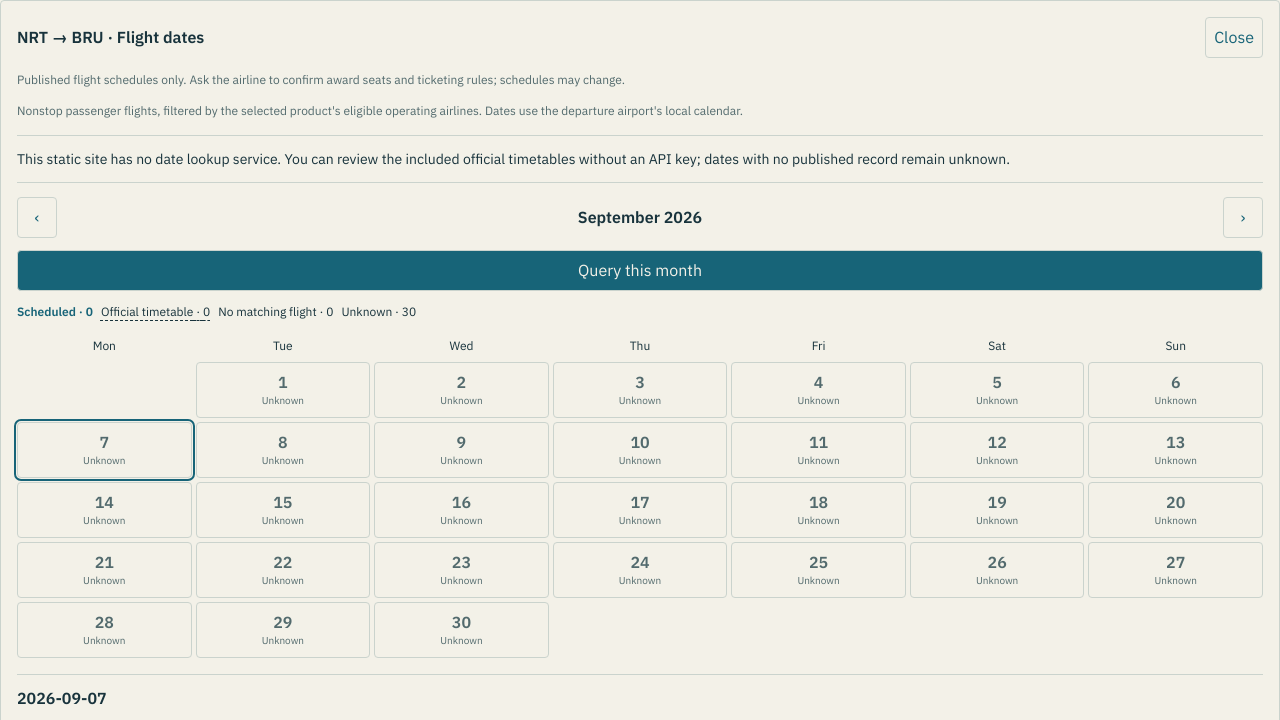
Test: unlisted weekday remains unknown, not route-wide no-flight
The width and height of the screenshot is (1280, 720).
Click the button "Query this month". click: {"x": 640, "y": 271}
box: [17,250,1263,291]
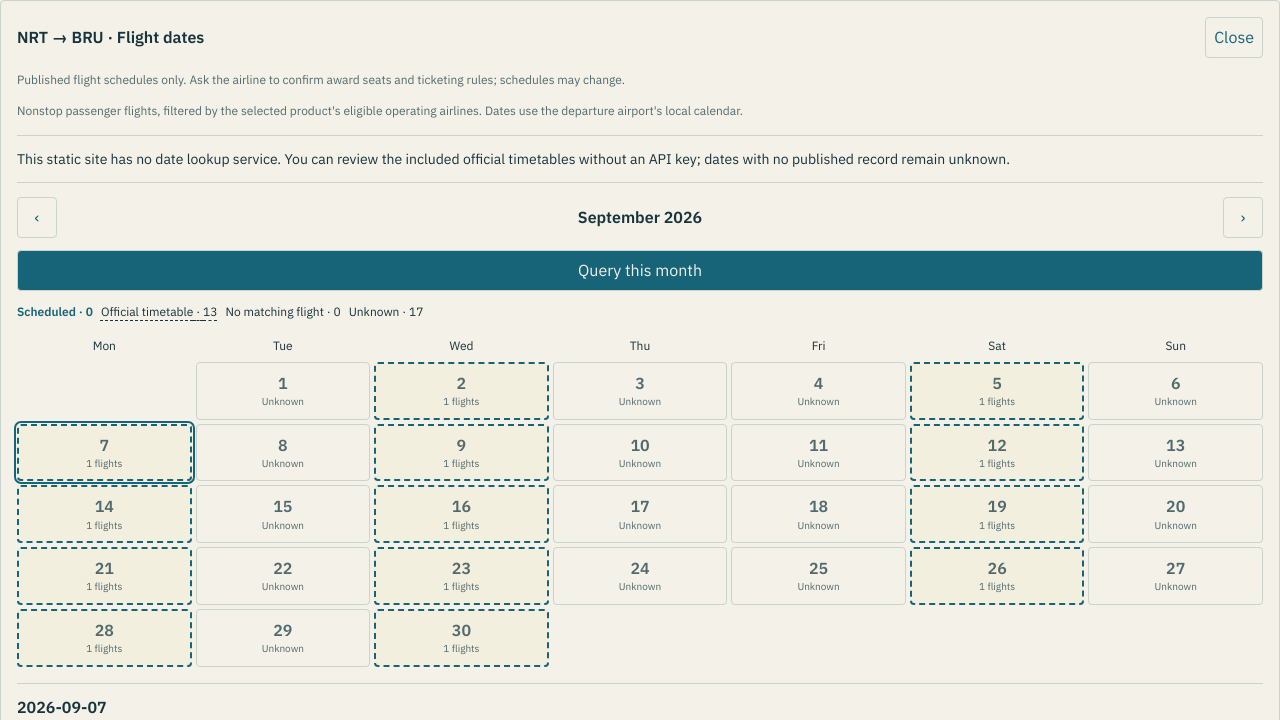
Click the button "8 Unknown". click: {"x": 283, "y": 453}
box: [196,424,370,482]
(page scrolled)
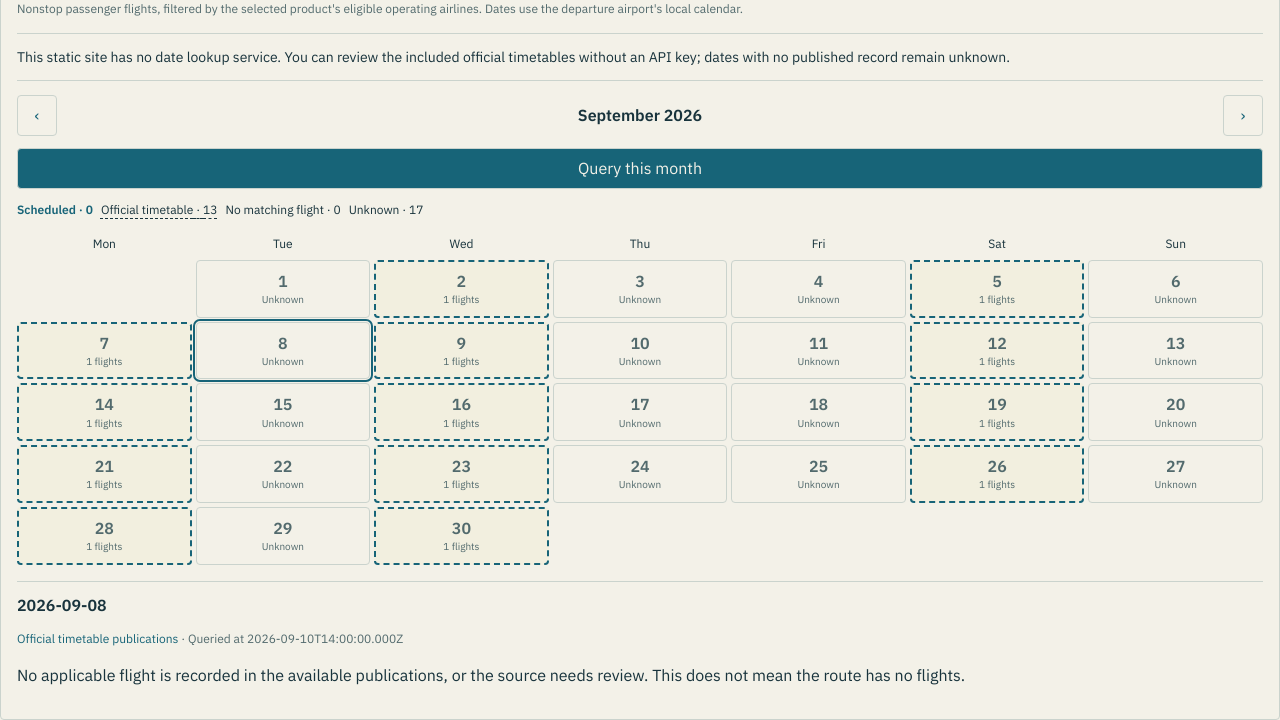
Now the text "does not mean the route has no flights" is shown, box [17,665,965,685]
